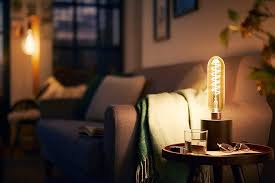bulb: (200, 51, 228, 116)
